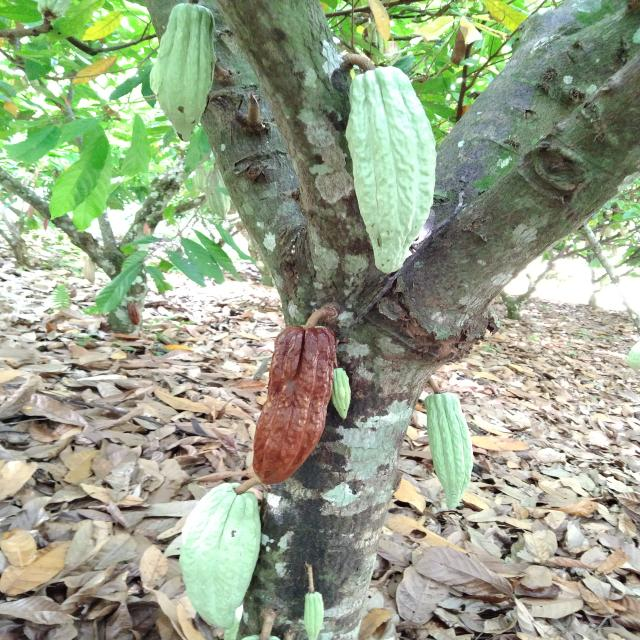Fitoftora: (252, 325, 339, 483)
Sana: (339, 69, 441, 274), (178, 483, 264, 632), (150, 4, 214, 145), (415, 390, 472, 506), (324, 366, 355, 419), (298, 590, 326, 640)
